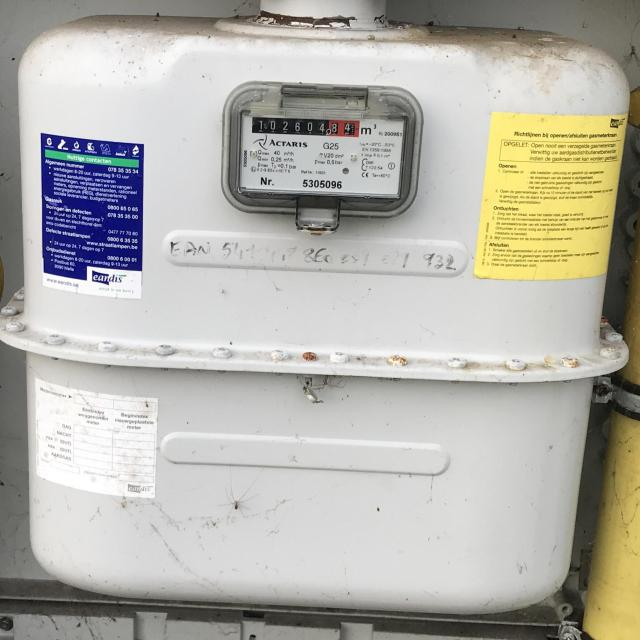gaz_meter: (235, 103, 406, 195)
indication: (252, 117, 360, 136)
